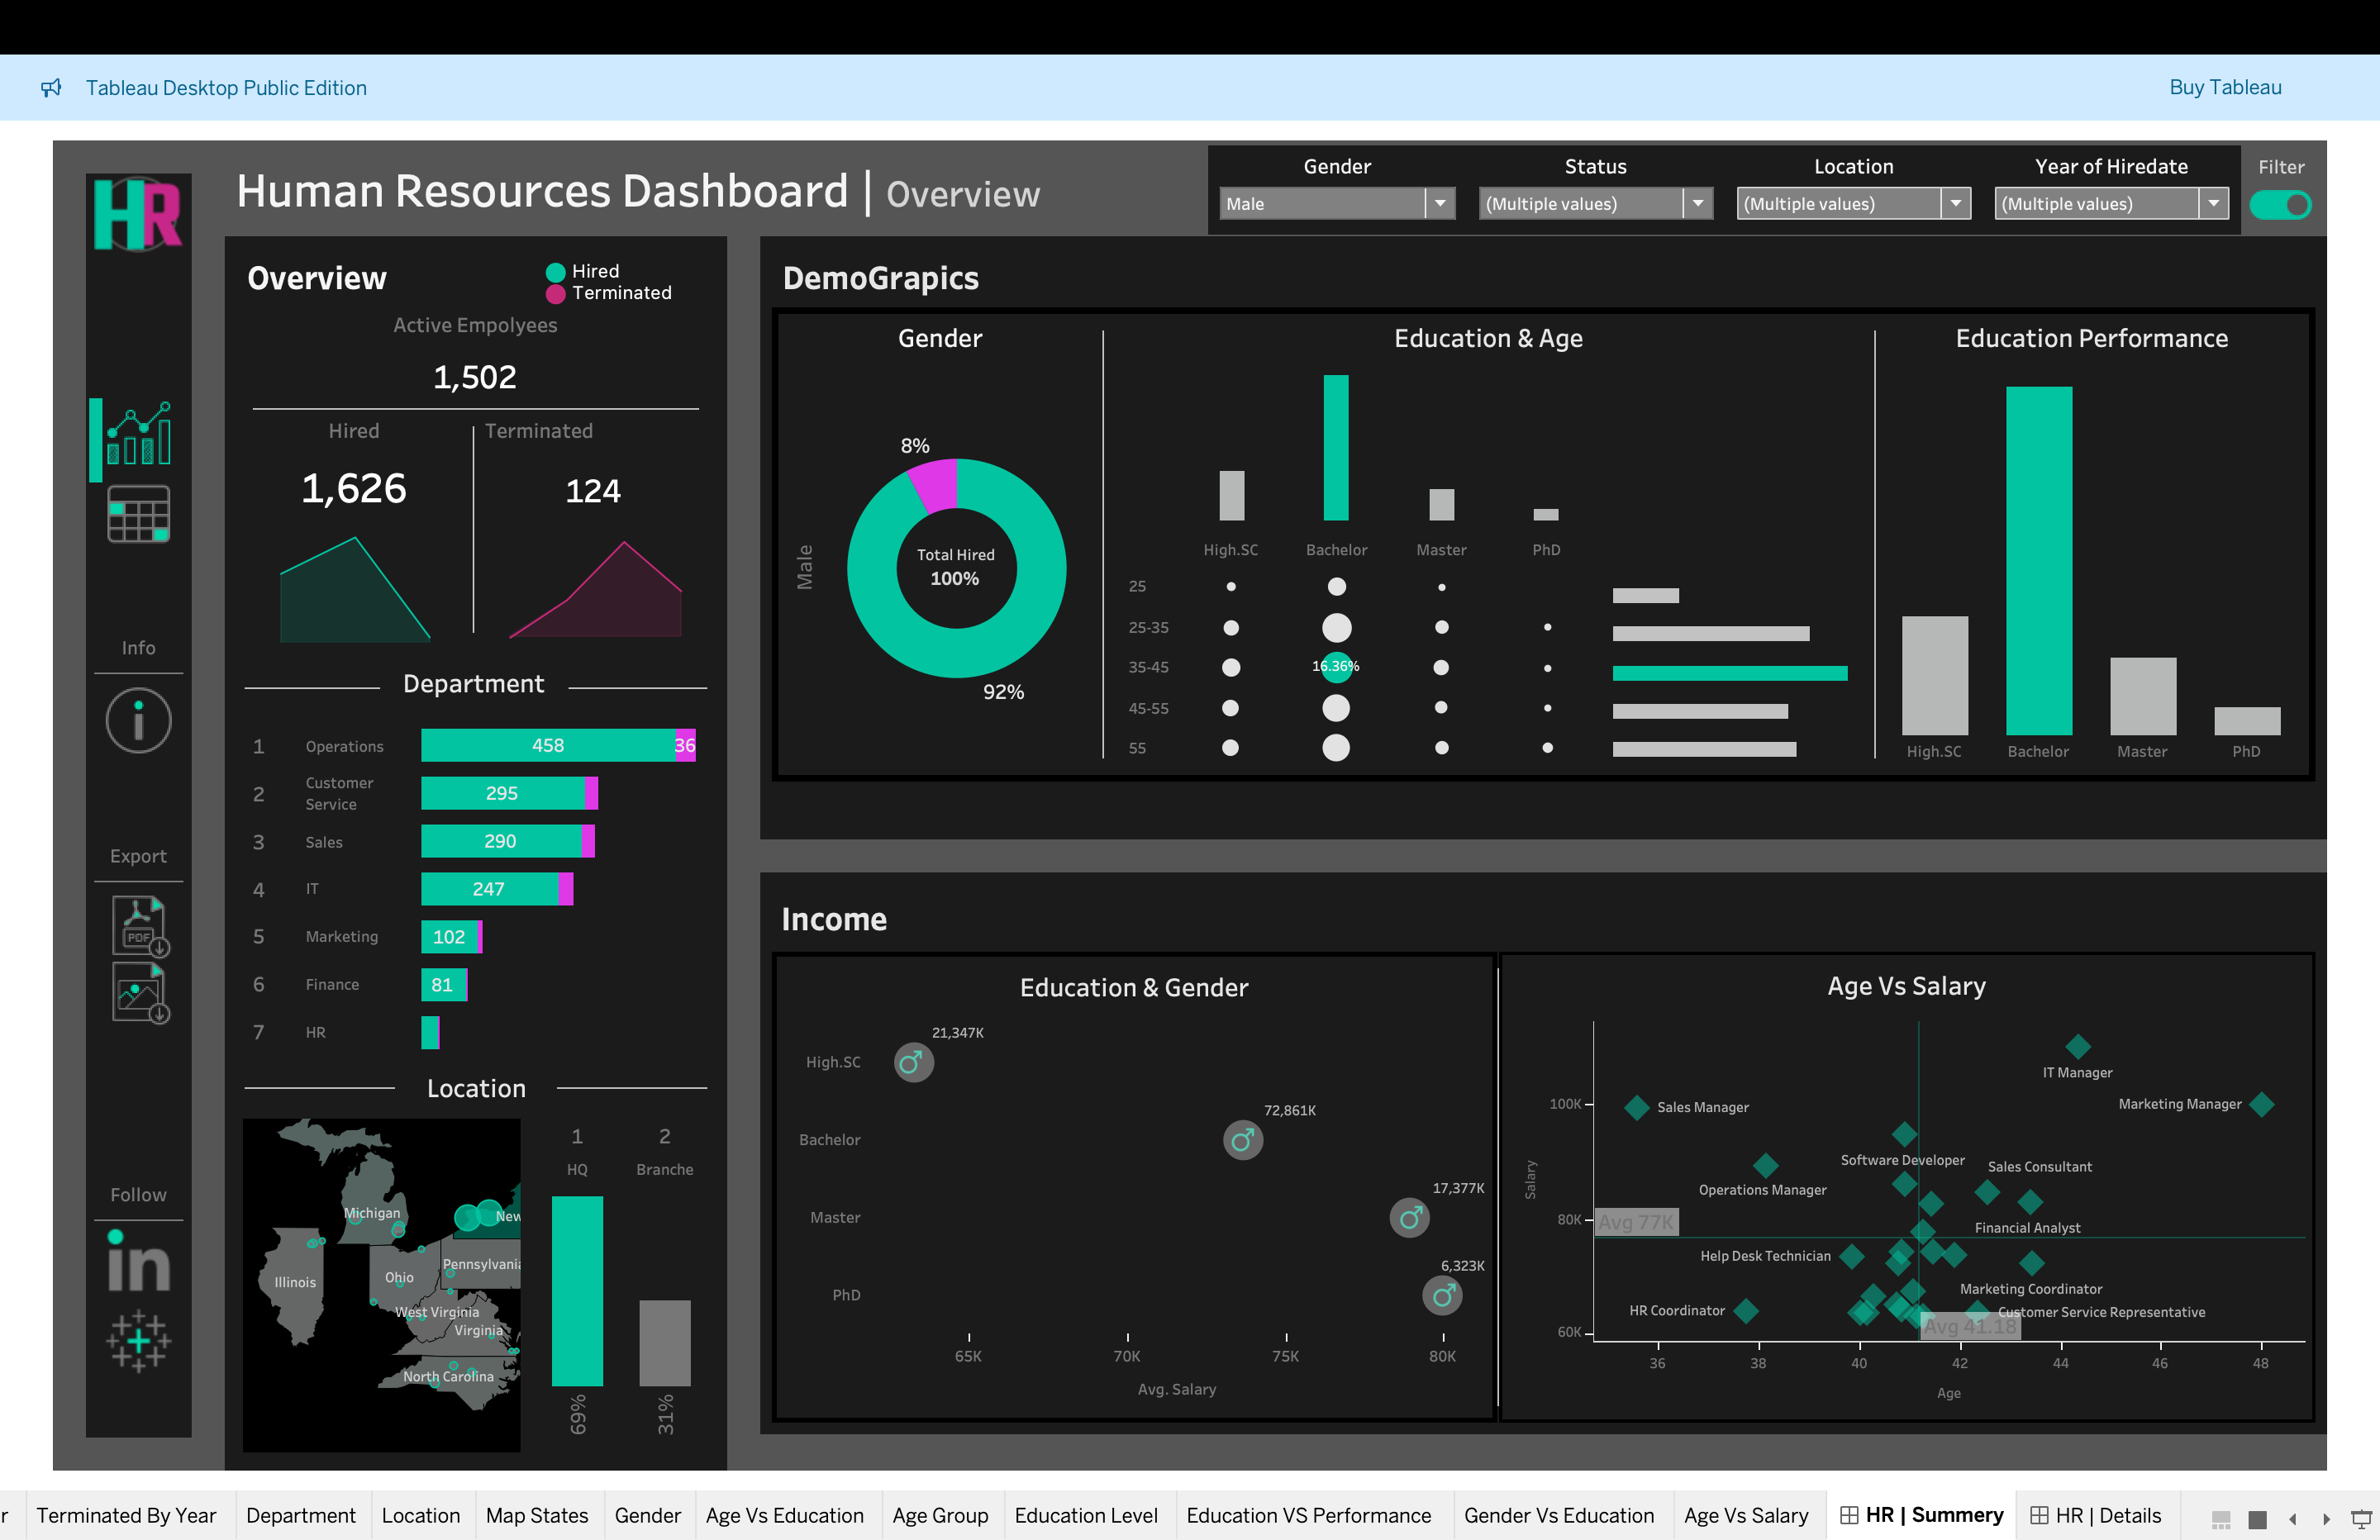

Layout of this report page (visuals, bound fields, positions):
{"tool":"tableau","page":{"name":"HR | Summery","canvas":[1000,1000],"units":"permille","ordinal":1},"visuals":[{"type":"blank","box":[70,0,923.6,309.4]},{"type":"text","box":[82.9,15,482.9,72.5]},{"type":"blank","box":[565.7,15,425.7,72.5]},{"type":"text","box":[960,16.2,40.7,33.8]},{"type":"filter","title":"Age Vs Salary","param":"[federated.06mr3i618qxdck11wm2he1a55tez].[none:Gender:nk]","box":[507.9,17.5,112.1,66.2]},{"type":"filter","title":"Gender Vs Education","param":"[federated.06mr3i618qxdck11wm2he1a55tez].[none:Calculation_112590011225538560:nk","box":[620,17.5,111.4,66.2]},{"type":"filter","title":"Education VS Performance","param":"[federated.06mr3i618qxdck11wm2he1a55tez].[none:Calculation_264797603350908930:nk","box":[731.4,17.5,111.4,66.2]},{"type":"filter","title":"Age Vs Education","param":"[federated.06mr3i618qxdck11wm2he1a55tez].[yr:Hiredate:ok]","box":[842.9,17.5,111.4,66.2]},{"type":"image","param":"Image/Logo.png","box":[22.9,41.2,45.7,58.8]},{"type":"dashboard-object","box":[957.9,42.5,27.9,40]},{"type":"text","box":[218.6,91.2,67.1,52.5]},{"type":"text","box":[87.9,96.2,207.1,42.5]},{"type":"text","box":[319.3,96.2,667.1,42.5]},{"type":"blank","box":[22.9,100,45.7,112.5]},{"type":"text","box":[87.9,138.8,207.1,31.2]},{"type":"text","box":[322.1,146.2,140,36.2]},{"type":"blank","box":[462.1,146.2,0.7,348.8]},{"type":"text","box":[466.4,146.2,325.7,36.2]},{"type":"blank","box":[795.7,146.2,0.7,348.8]},{"type":"text","box":[796.4,146.2,187.2,36.2]},{"type":"worksheet","title":"Total Acitve","mark":"Automatic","box":[87.9,170,207.1,47.5]},{"type":"worksheet","title":"Gender","mark":"Pie","rows":["Gender"],"cols":["Calculation_264797603359240198","Calculation_264797603359240198"],"box":[322.1,182.5,140,312.5]},{"type":"worksheet","title":"Education Level","mark":"Bar","rows":["Calculation_238761167989252096"],"cols":["Education Level"],"box":[466.4,182.5,325.7,125]},{"type":"worksheet","title":"Education VS Performance","mark":"Bar","rows":["Calculation_238761167989252096"],"cols":["Education Level"],"box":[796.4,182.5,187.2,312.5]},{"type":"blank","box":[24.3,202.5,5.7,61.2]},{"type":"dashboard-object","box":[23.6,212.5,44.3,47.5]},{"type":"blank","box":[87.9,217.5,207.1,1.2]},{"type":"text","box":[87.9,218.8,102.1,31.2]},{"type":"blank","box":[190,218.8,0.7,181.2]},{"type":"text","box":[190.7,218.8,104.3,31.2]},{"type":"worksheet","title":"Total Hired","mark":"Automatic","box":[87.9,250,102.1,55]},{"type":"worksheet","title":"Total Terminated","mark":"Automatic","box":[190.7,250,104.3,58.8]},{"type":"blank","box":[23.6,260,44.3,13.8]},{"type":"dashboard-object","box":[23.6,273.8,44.3,47.5]},{"type":"worksheet","title":"Hired By Year","mark":"Line","rows":["Calculation_238761167989252096","Calculation_238761167989252096"],"cols":["Hiredate"],"box":[87.9,305,102.1,95]},{"type":"worksheet","title":"Age Vs Education","mark":"Circle","rows":["Calculation_264797603363221513"],"cols":["Education Level"],"box":[466.4,307.5,213.6,187.5]},{"type":"worksheet","title":"Age Group","mark":"Bar","rows":["Calculation_264797603363221513"],"cols":["Calculation_238761167989252096"],"box":[680,307.5,112.1,187.5]},{"type":"worksheet","title":"Terminated By Year","mark":"Line","rows":["Calculation_238761167990038529","Calculation_238761167990038529"],"cols":["Termdate"],"box":[190.7,308.8,104.3,91.2]},{"type":"text","box":[70,309.4,923.6,381.2]},{"type":"blank","box":[23.6,321.2,44.3,62.5]},{"type":"text","box":[23.6,383.8,44.3,28.8]},{"type":"blank","box":[87.9,400,65.7,50]},{"type":"text","box":[153.6,400,74.3,50]},{"type":"blank","box":[227.8,400,67.1,50]},{"type":"blank","box":[23.6,412.5,44.3,11.2]},{"type":"dashboard-object","box":[23.6,423.8,44.3,55]},{"type":"worksheet","title":"Department","mark":"Bar","rows":["Calculation_264797603349704705","Department"],"cols":["Calculation_238761167989252096"],"box":[87.9,450,207.1,238.7]},{"type":"blank","box":[23.6,478.8,44.3,62.5]},{"type":"text","box":[23.6,541.2,44.3,28.8]},{"type":"text","box":[319.3,568.8,667.1,51.2]},{"type":"blank","box":[23.6,570,44.3,11.2]},{"type":"dashboard-object","box":[23.6,581.2,44.3,53.8]},{"type":"blank","box":[632.9,620,0.7,356.2]},{"type":"text","box":[635,622.5,350,45]},{"type":"text","box":[321.4,623.8,309.3,45]},{"type":"dashboard-object","box":[23.6,635,44.3,50]},{"type":"worksheet","title":"Age Vs Salary","mark":"Shape","rows":["Salary"],"cols":["Calculation_264797603362271240"],"box":[635,667.5,350,306.2]},{"type":"worksheet","title":"Gender Vs Education","mark":"Line","rows":["Education Level"],"cols":["Salary","Salary"],"box":[321.4,668.8,309.3,303.8]},{"type":"blank","box":[23.6,685,44.3,112.5]},{"type":"blank","box":[87.9,688.7,71.9,37.5]},{"type":"text","box":[159.8,688.7,63.3,37.5]},{"type":"blank","box":[223.1,688.7,71.9,37.5]},{"type":"blank","box":[70,690.6,923.6,309.4]},{"type":"worksheet","title":"Map States","mark":"Automatic","box":[87.9,726.2,125.7,250.1]},{"type":"worksheet","title":"Location","mark":"Bar","rows":["Calculation_238761167989252096"],"cols":["Calculation_264797603350908930","Calculation1"],"box":[213.6,726.2,81.4,250.1]},{"type":"text","box":[23.6,797.5,44.3,28.8]},{"type":"blank","box":[23.6,826.2,44.3,11.2]},{"type":"image","param":"Image/contact-linkedin.png","box":[23.6,837.5,44.3,50]},{"type":"blank","box":[23.6,887.5,44.3,11.2]},{"type":"image","param":"Image/contact-public.png","box":[23.6,898.8,44.3,50]}]}

Visuals, with their boxes on the dashboard's canvas, which has no fixed pixel size, in thousandths of its width and height (x1, y1, x2, y2). These are canvas units, not pixel positions in the 2380x1540 screenshot, which may show the page scaled, cropped or inside an application window:
blank: 70,0,994,309
text: 83,15,566,88
blank: 566,15,991,88
text: 960,16,1001,50
"Age Vs Salary" filter: 508,18,620,84
"Gender Vs Education" filter: 620,18,731,84
"Education VS Performance" filter: 731,18,843,84
"Age Vs Education" filter: 843,18,954,84
image: 23,41,69,100
dashboard-object: 958,42,986,82
text: 219,91,286,144
text: 88,96,295,139
text: 319,96,986,139
blank: 23,100,69,212
text: 88,139,295,170
text: 322,146,462,182
blank: 462,146,463,495
text: 466,146,792,182
blank: 796,146,796,495
text: 796,146,984,182
"Total Acitve" worksheet: 88,170,295,218
"Gender" worksheet (Pie marks): 322,182,462,495
"Education Level" worksheet (Bar marks): 466,182,792,308
"Education VS Performance" worksheet (Bar marks): 796,182,984,495
blank: 24,202,30,264
dashboard-object: 24,212,68,260
blank: 88,218,295,219
text: 88,219,190,250
blank: 190,219,191,400
text: 191,219,295,250
"Total Hired" worksheet: 88,250,190,305
"Total Terminated" worksheet: 191,250,295,309
blank: 24,260,68,274
dashboard-object: 24,274,68,321
"Hired By Year" worksheet (Line marks): 88,305,190,400
"Age Vs Education" worksheet (Circle marks): 466,308,680,495
"Age Group" worksheet (Bar marks): 680,308,792,495
"Terminated By Year" worksheet (Line marks): 191,309,295,400
text: 70,309,994,691
blank: 24,321,68,384
text: 24,384,68,413
blank: 88,400,154,450
text: 154,400,228,450
blank: 228,400,295,450
blank: 24,412,68,424
dashboard-object: 24,424,68,479
"Department" worksheet (Bar marks): 88,450,295,689
blank: 24,479,68,541
text: 24,541,68,570
text: 319,569,986,620
blank: 24,570,68,581
dashboard-object: 24,581,68,635
blank: 633,620,634,976
text: 635,622,985,668
text: 321,624,631,669
dashboard-object: 24,635,68,685
"Age Vs Salary" worksheet (Shape marks): 635,668,985,974
"Gender Vs Education" worksheet (Line marks): 321,669,631,973
blank: 24,685,68,798
blank: 88,689,160,726
text: 160,689,223,726
blank: 223,689,295,726
blank: 70,691,994,1000
"Map States" worksheet: 88,726,214,976
"Location" worksheet (Bar marks): 214,726,295,976
text: 24,798,68,826
blank: 24,826,68,837
image: 24,838,68,888
blank: 24,888,68,899
image: 24,899,68,949
